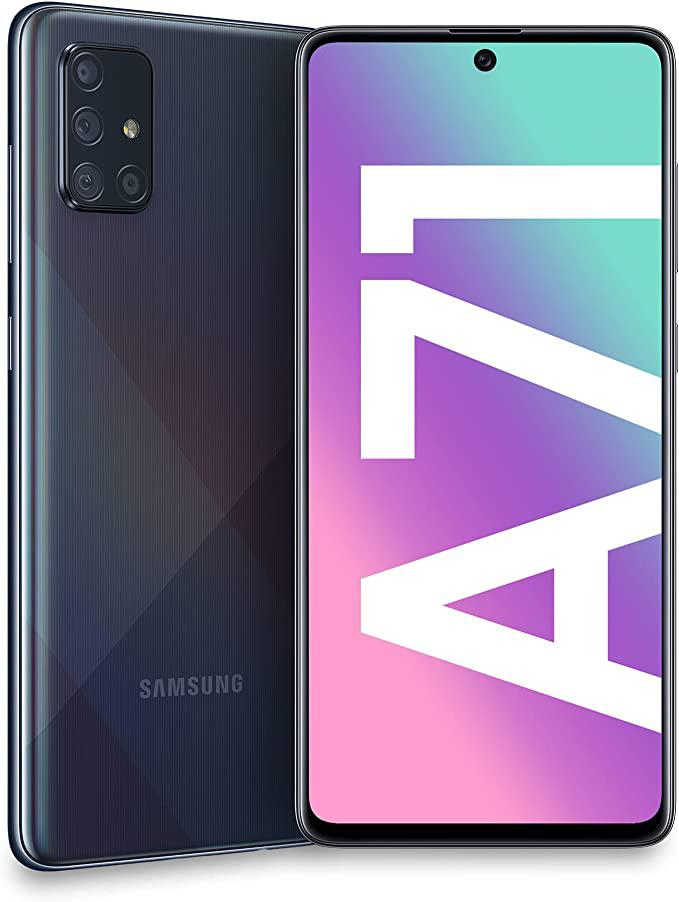Smartphone: (300, 17, 673, 859), (19, 1, 297, 863)
